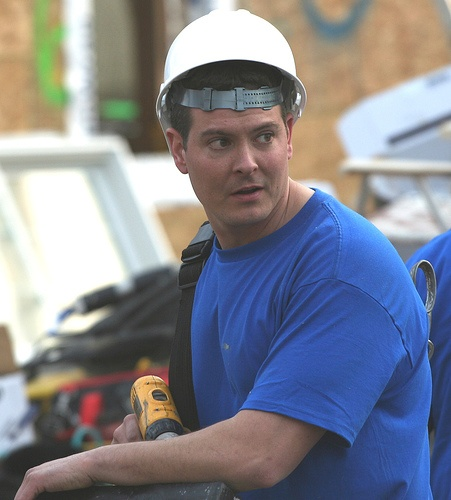head: (163, 60, 293, 231)
person: (61, 3, 433, 500)
